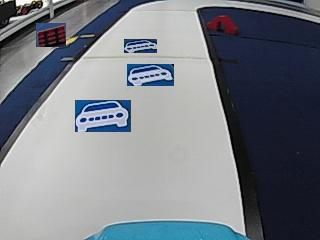bridge: (208, 15, 238, 33)
